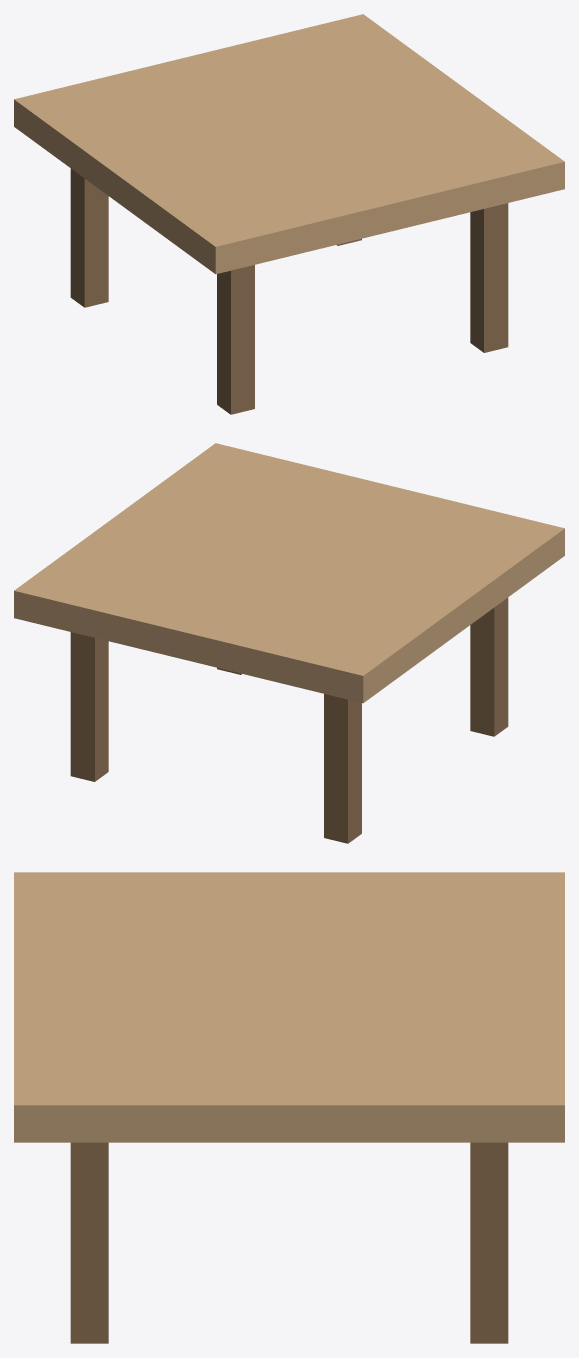
The model's file is coffee-table.glb.
The picture shows the model from 3 angles, top to bottom: view 1: azimuth 30°, elevation 25°; view 2: azimuth 150°, elevation 25°; view 3: azimuth 270°, elevation 25°; orthographic projection. The views are drawn at different scales.
Size of the model in its own units: 0.8 by 0.42 by 0.8.
